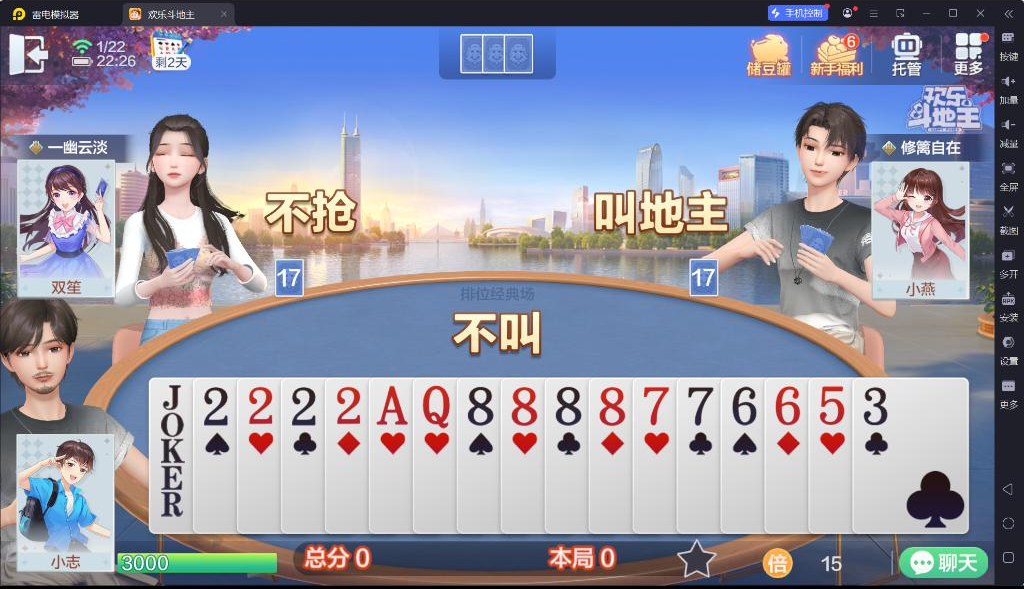A: (374, 383, 409, 427)
Q: (419, 382, 451, 430)
eight: (463, 382, 495, 428), (552, 385, 585, 428), (508, 384, 540, 428), (595, 385, 627, 428)
five: (815, 381, 847, 426)
joker: (157, 380, 187, 468)
seven: (638, 383, 672, 426), (684, 382, 714, 428)
six: (771, 381, 803, 427), (728, 382, 758, 428)
three: (860, 382, 889, 428)
two: (199, 385, 233, 428), (287, 385, 319, 428), (332, 383, 364, 425), (244, 383, 276, 424)
